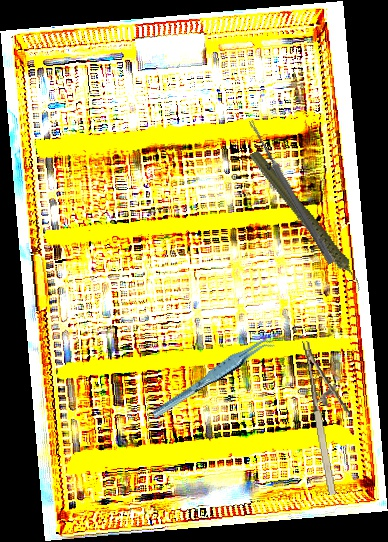Handpiece: (248, 134, 364, 310)
Needle Holder: (302, 336, 362, 496)
Surgical Spoon: (246, 118, 336, 266)
Tissue Forceps: (144, 335, 282, 420)
